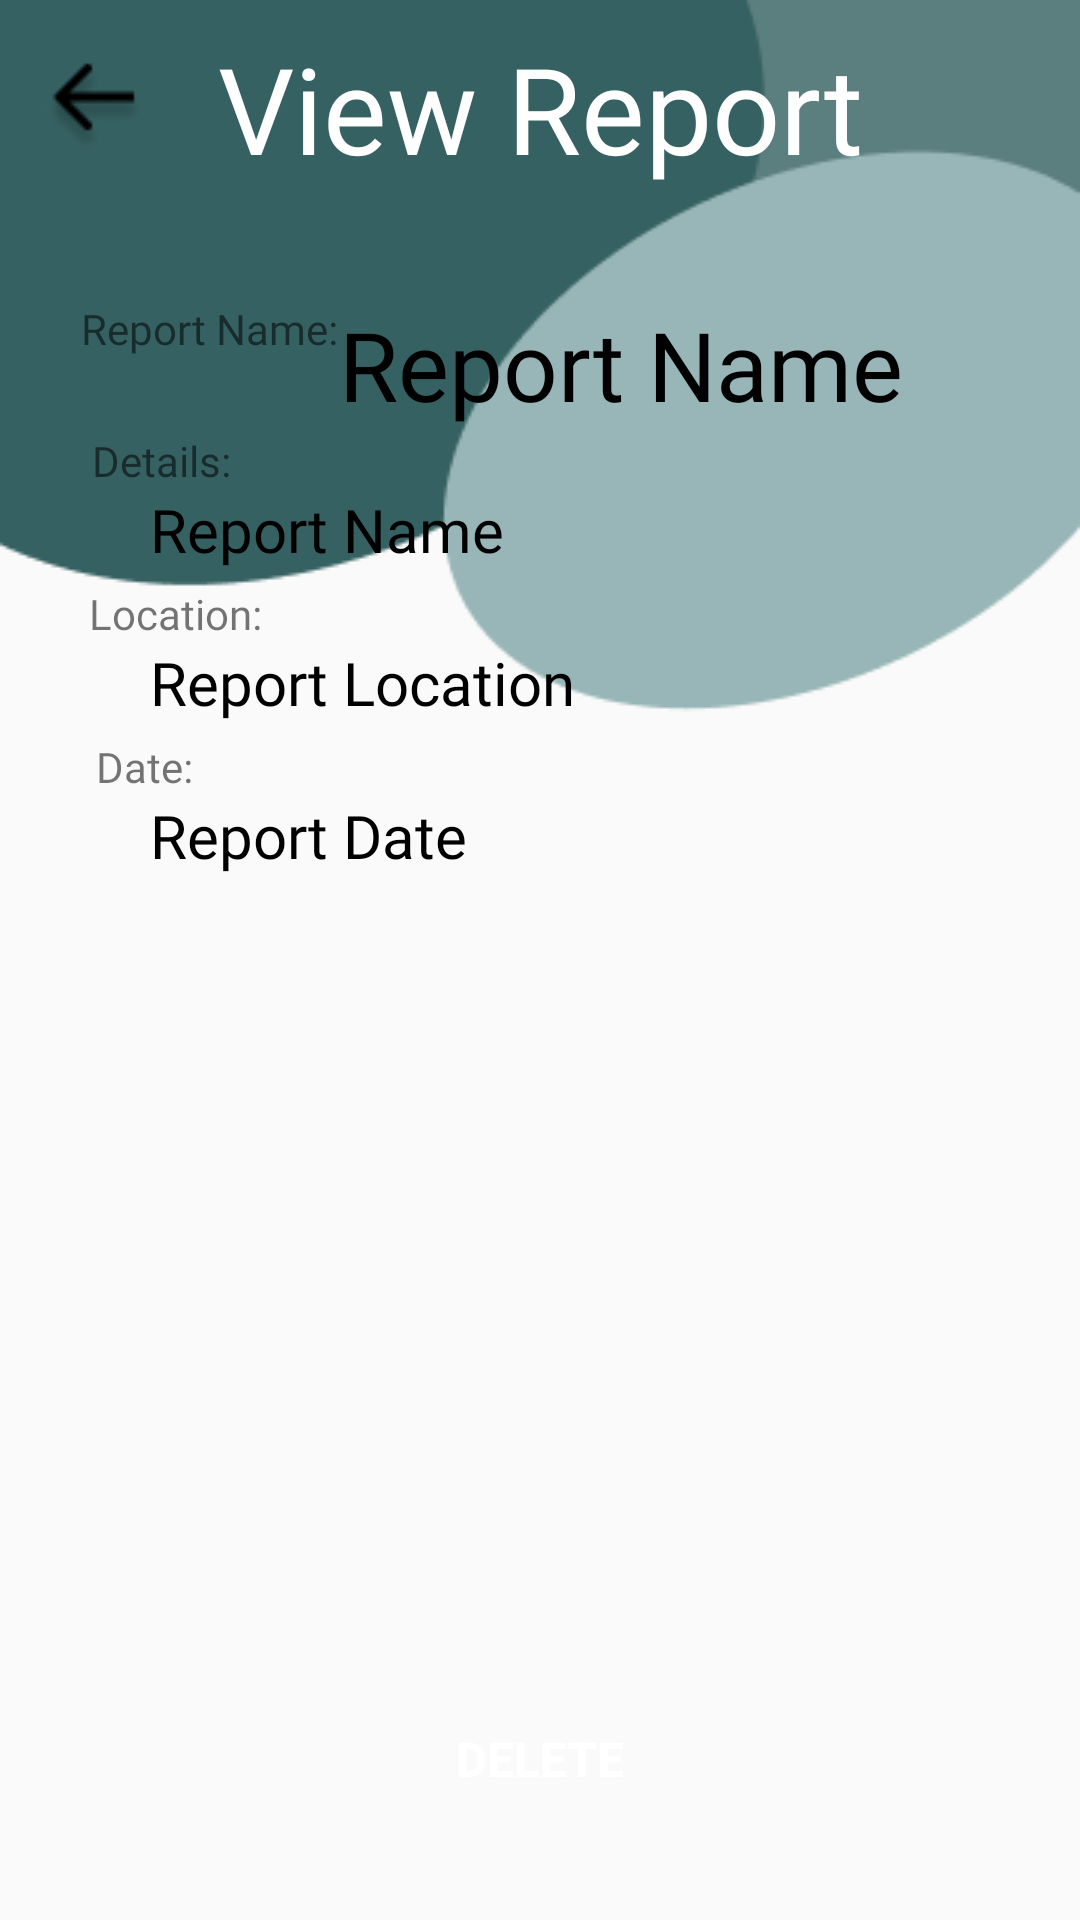

Named icons in this screenshot (1080px×1920px) and their bounding boxes, region(x1, y1, x2, y2):
arrow: region(53, 63, 135, 131)
